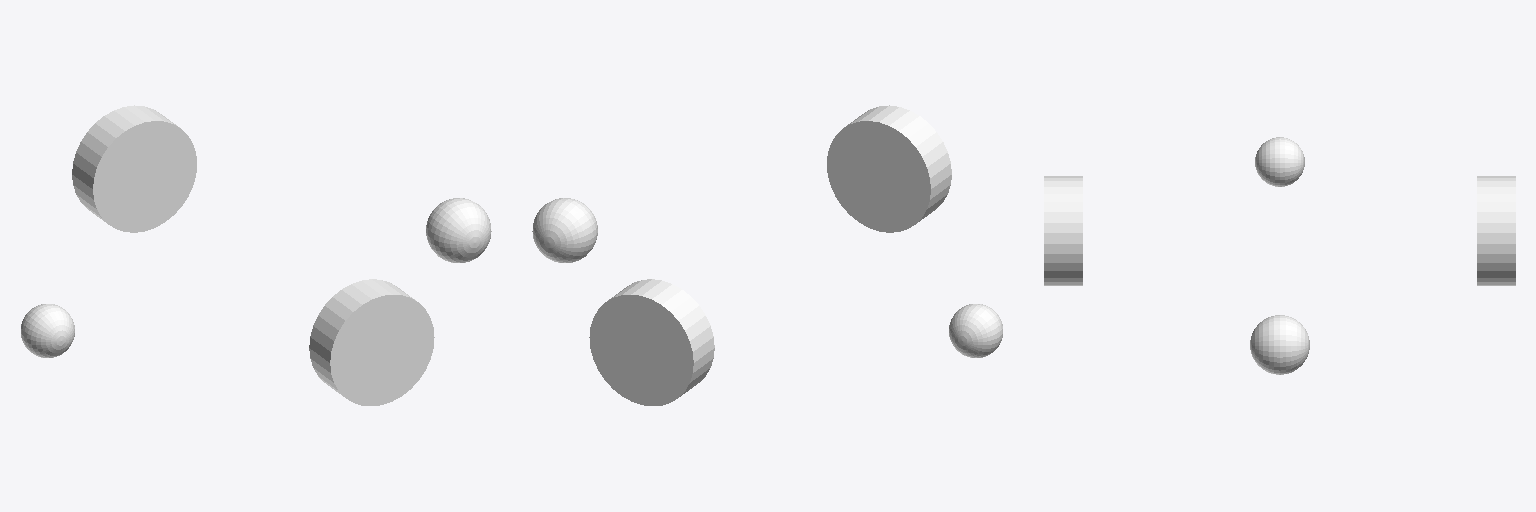
robot.urdf — turtlebot:
<?xml version="1.0" encoding="utf-8"?>
<robot name="turtlebot">
  <material name="Default-Material">
    <color rgba="1 1 1 1" />
  </material>
  <link name="base_link">
    <inertial>
      <origin rpy="0 0 0" xyz="0 0 0" />
      <mass value="5" />
      <inertia ixx="0.00999999977648258" ixy="0" ixz="0" iyy="0.00999999977648258" iyz="0" izz="0.5" />
    </inertial>
    <visual>
      <origin xyz="0 0 0.0308" />
      <geometry>
        <mesh filename="package://meshes/create_body.dae" scale="0.0254 0.0254 0.0254" />
      </geometry>
    </visual>
    <collision>
      <origin xyz="0 0 0.0308" />
      <geometry>
        <cylinder length="0.061163" radius="0.16495" />
      </geometry>
    </collision>
  </link>
  <link name="left_wheel_link">
    <inertial>
      <origin rpy="0 0 0" xyz="0 0 0" />
      <mass value="0.200000003" />
      <inertia ixx="0.00100000004749745" ixy="0" ixz="0" iyy="0.00100000004749745" iyz="0" izz="0.00100000004749745" />
    </inertial>
    <visual>
      <origin rpy="0 1.570796 -4.712485" />
      <geometry>
        <cylinder length="0.023" radius="0.033" />
      </geometry>
      <material name="Default-Material" />
    </visual>
    <collision>
      <geometry>
        <cylinder length="2" radius="0.5" />
      </geometry>
    </collision>
  </link>
  <link name="right_wheel_link">
    <inertial>
      <origin rpy="0 0 0" xyz="0 0 0" />
      <mass value="0.200000003" />
      <inertia ixx="0.00100000004749745" ixy="0" ixz="0" iyy="0.00100000004749745" iyz="0" izz="0.00100000004749745" />
    </inertial>
    <visual>
      <origin rpy="0 1.570796 -4.712485" />
      <geometry>
        <cylinder length="0.023" radius="0.033" />
      </geometry>
      <material name="Default-Material" />
    </visual>
    <collision>
      <origin rpy="-1.570796 0 0" />
      <geometry>
        <cylinder length="2" radius="0.5" />
      </geometry>
    </collision>
  </link>
  <link name="rear_wheel_link">
    <inertial>
      <origin rpy="0 0 0" xyz="0 0 0" />
      <mass value="0.0099999998" />
      <inertia ixx="9.99999974737875E-05" ixy="0" ixz="0" iyy="9.99999974737875E-05" iyz="0" izz="9.99999974737875E-05" />
    </inertial>
    <visual>
      <origin rpy="0 1.570796 -4.712485" />
      <geometry>
        <sphere radius="0.015" />
      </geometry>
      <material name="Default-Material" />
    </visual>
    <collision>
      <origin rpy="0 1.570796 -4.712485" />
      <geometry>
        <sphere radius="0.015" />
      </geometry>
    </collision>
  </link>
  <link name="front_wheel_link">
    <inertial>
      <origin rpy="0 0 0" xyz="0 0 0" />
      <mass value="0.0099999998" />
      <inertia ixx="0.00100000004749745" ixy="0" ixz="0" iyy="0.00100000004749745" iyz="0" izz="0.00100000004749745" />
    </inertial>
    <visual>
      <origin rpy="0 1.570796 -4.712485" />
      <geometry>
        <sphere radius="0.018" />
      </geometry>
      <material name="Default-Material" />
    </visual>
    <collision>
      <origin rpy="0 1.570796 -4.712485" />
      <geometry>
        <sphere radius="0.018" />
      </geometry>
    </collision>
  </link>
  <link name="plate_0_link">
    <inertial>
      <origin rpy="0 0 0" xyz="0.050744 0 0.160223" />
      <mass value="1" />
      <inertia ixx="0.0254949387162924" ixy="0" ixz="0" iyy="0.0118522271513939" iyz="0" izz="0.0209144987165928" />
    </inertial>
    <visual>
      <geometry>
        <mesh filename="package://meshes/plate_0_logo.dae" scale="0.001 0.001 0.001" />
      </geometry>
    </visual>
    <collision>
      <geometry>
        <mesh filename="package://meshes/Mesh.stl" scale="1 1 1" />
      </geometry>
    </collision>
  </link>
  <link name="plate_1_link">
    <inertial>
      <origin rpy="0 0 0" xyz="0 0 0" />
      <mass value="0.1000000015" />
      <inertia ixx="0.00999999977648258" ixy="0" ixz="0" iyy="0.00999999977648258" iyz="0" izz="0.00999999977648258" />
    </inertial>
    <visual>
      <geometry>
        <mesh filename="package://meshes/plate_1_logo.dae" scale="0.001 0.001 0.001" />
      </geometry>
    </visual>
    <collision>
      <geometry>
        <cylinder length="0.008" radius="0.16" />
      </geometry>
    </collision>
  </link>
  <link name="plate_2_link">
    <inertial>
      <origin rpy="0 0 0" xyz="0 0 0" />
      <mass value="0.1000000015" />
      <inertia ixx="0.00100000004749745" ixy="0" ixz="0" iyy="0.00100000004749745" iyz="0" izz="0.00100000004749745" />
    </inertial>
    <visual>
      <geometry>
        <mesh filename="package://meshes/plate_1_logo.dae" scale="0.001 0.001 0.001" />
      </geometry>
    </visual>
    <collision>
      <geometry>
        <cylinder length="0.008" radius="0.16" />
      </geometry>
    </collision>
  </link>
  <link name="standoff_kinect_0_link">
    <inertial>
      <origin rpy="0 0 0" xyz="0 0 0" />
      <mass value="0.1000000015" />
      <inertia ixx="9.99999974737875E-05" ixy="0" ixz="0" iyy="9.99999974737875E-05" iyz="0" izz="9.99999974737875E-05" />
    </inertial>
    <visual>
      <geometry>
        <mesh filename="package://meshes/68-04556-RA_Kinect_Standoff_Assy.dae" scale="1 1 1" />
      </geometry>
    </visual>
    <collision>
      <origin xyz="0 0 0.043" />
      <geometry>
        <cylinder length="0.086" radius="0.0055" />
      </geometry>
    </collision>
  </link>
  <link name="camera_rgb_frame">
    <inertial>
      <origin rpy="0 0 0" xyz="0 0 0" />
      <mass value="0.5640000105" />
      <inertia ixx="0.00388124352321029" ixy="0" ixz="0" iyy="0.00049893994582817" iyz="0" izz="0.00387925724498928" />
    </inertial>
    <visual>
      <origin rpy="0 0 -4.712389" />
      <geometry>
        <mesh filename="package://meshes/kinect.dae" scale="1 1 1" />
      </geometry>
    </visual>
    <collision>
      <geometry>
        <box size="0.07271 0.27794 0.073" />
      </geometry>
    </collision>
  </link>
  <link name="camera_rgb_optical_frame" />
  <link name="camera_depth_frame" />
  <link name="camera_depth_optical_frame" />
  <link name="standoff_kinect_1_link">
    <inertial>
      <origin rpy="0 0 0" xyz="0 0 0" />
      <mass value="0.1000000015" />
      <inertia ixx="9.99999974737875E-05" ixy="0" ixz="0" iyy="9.99999974737875E-05" iyz="0" izz="9.99999974737875E-05" />
    </inertial>
    <visual>
      <geometry>
        <mesh filename="package://meshes/68-04556-RA_Kinect_Standoff_Assy.dae" scale="1 1 1" />
      </geometry>
    </visual>
    <collision>
      <origin xyz="0 0 0.043" />
      <geometry>
        <cylinder length="0.086" radius="0.0055" />
      </geometry>
    </collision>
  </link>
  <link name="plate_3_link">
    <inertial>
      <origin rpy="0 0 0" xyz="0 0 0" />
      <mass value="0.1000000015" />
      <inertia ixx="9.99999974737875E-05" ixy="0" ixz="0" iyy="9.99999974737875E-05" iyz="0" izz="9.99999974737875E-05" />
    </inertial>
    <visual>
      <geometry>
        <mesh filename="package://meshes/plate_2_logo.dae" scale="1 1 1" />
      </geometry>
    </visual>
    <collision>
      <origin xyz="0.0144 0 0" />
      <geometry>
        <cylinder length="0.008" radius="0.16" />
      </geometry>
    </collision>
  </link>
  <link name="frontLaser">
    <inertial>
      <origin rpy="0 0 0" xyz="0 0 0" />
      <mass value="0.1299999952" />
      <inertia ixx="9.99999974737875E-05" ixy="0" ixz="0" iyy="9.99999974737875E-05" iyz="0" izz="9.99999974737875E-05" />
    </inertial>
  </link>
  <link name="backLaser">
    <inertial>
      <origin rpy="0 0 0" xyz="0 0 0" />
      <mass value="0.1299999952" />
      <inertia ixx="9.99999974737875E-05" ixy="0" ixz="0" iyy="9.99999974737875E-05" iyz="0" izz="9.99999974737875E-05" />
    </inertial>
  </link>
  <joint name="base_link_left_wheel_link_joint" type="continuous">
    <origin xyz="0 0.13 0.015" />
    <parent link="base_link" />
    <child link="left_wheel_link" />
    <axis xyz="0 1 0" />
    <dynamics damping="10" />
  </joint>

  <transmission name="left_wheel_transmission">
    <type>transmission_interface/SimpleTransmission</type>
    <joint name="base_link_left_wheel_link_joint">
      <hardwareInterface>EffortJointInterface</hardwareInterface>
    </joint>
    <actuator name="left_motor">
      <hardwareInterface>EffortJointInterface</hardwareInterface>
      <mechanicalReduction>1</mechanicalReduction>
    </actuator>
  </transmission>

  <joint name="base_link_right_wheel_link_joint" type="continuous">
    <origin xyz="0 -0.13 0.015" />
    <parent link="base_link" />
    <child link="right_wheel_link" />
    <axis xyz="0 1 0" />
    <dynamics damping="10" />
  </joint>


  <transmission name="right_wheel_transmission">
    <type>transmission_interface/SimpleTransmission</type>
    <joint name="base_link_right_wheel_link_joint">
      <hardwareInterface>hardware_interface/VelocityJointInterface</hardwareInterface>
    </joint>
    <actuator name="right_motor">
      <mechanicalReduction>1</mechanicalReduction>
      <hardwareInterface>VelocityJointInterface</hardwareInterface>
    </actuator>
  </transmission>

  <joint name="base_link_rear_wheel_link_joint" type="floating">
    <origin xyz="-0.13 0 0" />
    <parent link="base_link" />
    <child link="rear_wheel_link" />
  </joint>
  <joint name="base_link_front_wheel_link_joint" type="floating">
    <origin xyz="0.13 0 0" />
    <parent link="base_link" />
    <child link="front_wheel_link" />
  </joint>
  <joint name="base_link_plate_0_link_joint" type="fixed">
    <origin xyz="-0.04334 0 0.067757" />
    <parent link="base_link" />
    <child link="plate_0_link" />
  </joint>
  <joint name="plate_0_link_plate_1_link_joint" type="fixed">
    <origin xyz="0.04068 0 0.05715" />
    <parent link="plate_0_link" />
    <child link="plate_1_link" />
  </joint>
  <joint name="plate_1_link_plate_2_link_joint" type="fixed">
    <origin xyz="0 0 0.057201" />
    <parent link="plate_1_link" />
    <child link="plate_2_link" />
  </joint>
  <joint name="plate_2_link_standoff_kinect_0_link_joint" type="fixed">
    <origin xyz="-0.102438 0.098 0.0032" />
    <parent link="plate_2_link" />
    <child link="standoff_kinect_0_link" />
  </joint>
  <joint name="standoff_kinect_0_link_camera_rgb_frame_joint" type="fixed">
    <origin xyz="-0.012902 -0.098 0.085692" />
    <parent link="standoff_kinect_0_link" />
    <child link="camera_rgb_frame" />
  </joint>
  <joint name="camera_rgb_frame_camera_rgb_optical_frame_joint" type="fixed">
    <origin rpy="-1.570796 0 -1.570796" xyz="0.018098 -0.1105 0.101692" />
    <parent link="camera_rgb_frame" />
    <child link="camera_rgb_optical_frame" />
  </joint>
  <joint name="camera_rgb_frame_camera_depth_frame_joint" type="fixed">
    <origin xyz="0.018098 -0.0855 0.101692" />
    <parent link="camera_rgb_frame" />
    <child link="camera_depth_frame" />
  </joint>
  <joint name="camera_depth_frame_camera_depth_optical_frame_joint" type="fixed">
    <origin rpy="-1.570796 0 -1.570796" />
    <parent link="camera_depth_frame" />
    <child link="camera_depth_optical_frame" />
  </joint>
  <joint name="plate_2_link_standoff_kinect_1_link_joint" type="fixed">
    <origin xyz="-0.102438 -0.098 0.0032" />
    <parent link="plate_2_link" />
    <child link="standoff_kinect_1_link" />
  </joint>
  <joint name="plate_2_link_plate_3_link_joint" type="fixed">
    <origin xyz="-0.01316 0 0.20635" />
    <parent link="plate_2_link" />
    <child link="plate_3_link" />
  </joint>
  <joint name="plate_3_link_frontLaser_joint" type="fixed">
    <origin xyz="0.1 0 0.006" />
    <parent link="plate_3_link" />
    <child link="frontLaser" />
  </joint>
  <joint name="plate_3_link_backLaser_joint" type="fixed">
    <origin rpy="0 0 -3.141593" xyz="-0.1 0 0.006" />
    <parent link="plate_3_link" />
    <child link="backLaser" />
  </joint>
</robot>

--- What the picture shows (computed from the rendered views, not written in the file) ---
Views: 3 orthographic renders of the robot side by side, from view 1: azimuth 30°, elevation 25°; view 2: azimuth 150°, elevation 25°; view 3: azimuth 270°, elevation 25°.
Robot: turtlebot — 17 links, 16 joints (2 continuous, 12 fixed, 2 floating); root link base_link; default pose: all joints at 0.
Visible links, largest first — view 1: right_wheel_link, left_wheel_link, front_wheel_link, rear_wheel_link; view 2: left_wheel_link, right_wheel_link, front_wheel_link, rear_wheel_link; view 3: left_wheel_link, right_wheel_link, front_wheel_link, rear_wheel_link.
Link boxes in pixels (x1,y1,x2,y2): right_wheel_link: (309,279,434,405); left_wheel_link: (72,105,196,232); front_wheel_link: (426,198,491,262); rear_wheel_link: (21,304,74,357); left_wheel_link: (589,279,714,405); right_wheel_link: (827,105,951,232); front_wheel_link: (532,198,597,262); rear_wheel_link: (949,304,1002,357); left_wheel_link: (1477,176,1515,285); right_wheel_link: (1044,176,1082,285); front_wheel_link: (1250,315,1309,374); rear_wheel_link: (1255,137,1304,186).
Bounding box of the posed robot: 0.293 × 0.283 × 0.066 m (x, y, z).
0 mesh visuals loaded from 6 distinct referenced files (none loaded); not drawn: 8 (reference not matched to a file when rendering).